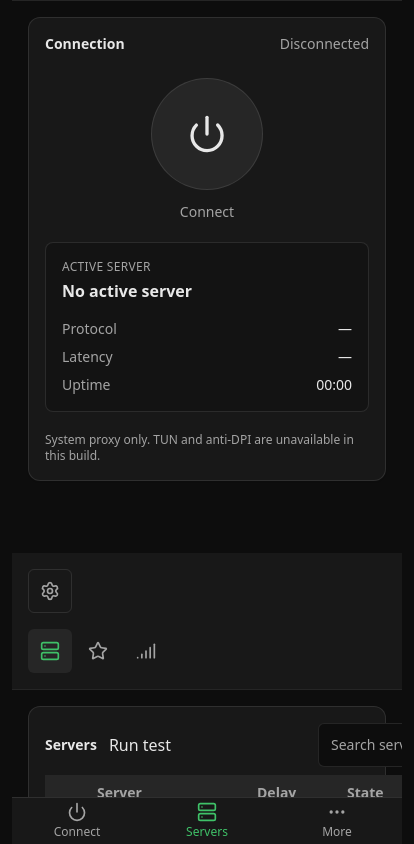
Scenario: AppShell portrait navigation › follows the last tap without a scroll listener
This screenshot has width=414, height=844.
Earlier steps of the test are not shown.
What coordinates should you click on to do the following:
click the button with test id "bottom-nav-connect"
I would click on:
 (77, 821)
Its box is [12,798,142,843].
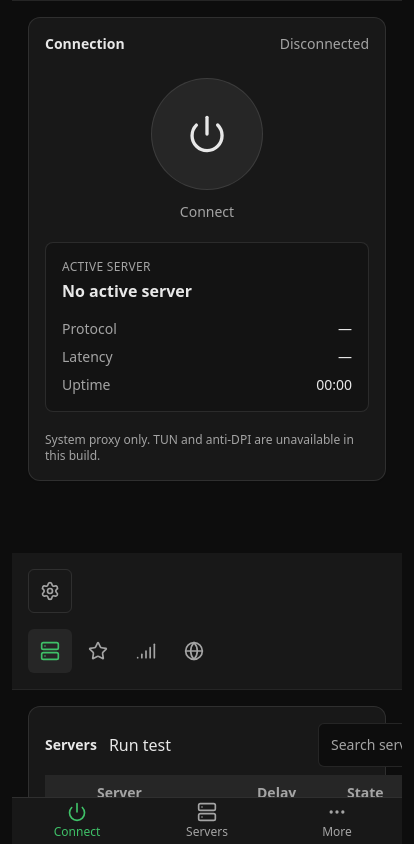
Now the button with test id "bottom-nav-connect" is marked as current, box [12,798,142,843]
Now the button with test id "bottom-nav-servers" does not have attribute aria-current, box [142,798,272,843]
